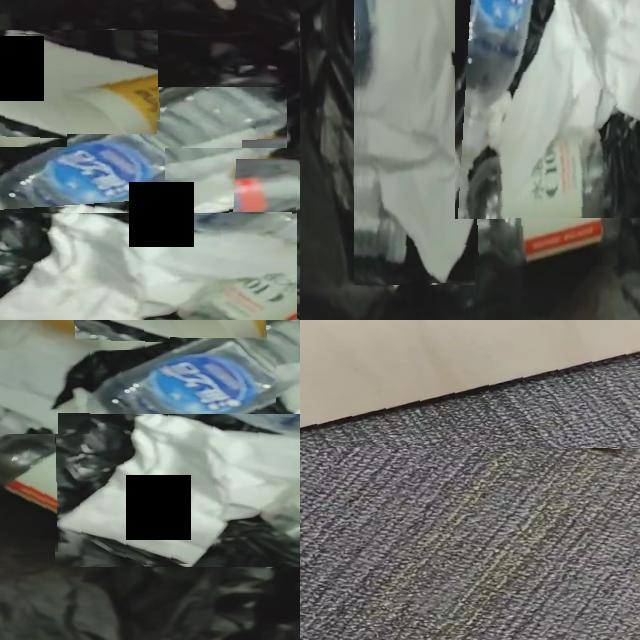bottle: (0, 87, 287, 240), (55, 320, 300, 451), (435, 132, 618, 266), (0, 432, 196, 550), (466, 0, 546, 158), (238, 160, 300, 222)
carton: (300, 320, 640, 431)
dixie_cup: (0, 74, 67, 147), (38, 320, 166, 350)
paper: (455, 0, 640, 214), (57, 414, 300, 565), (360, 0, 474, 284), (0, 213, 297, 320), (0, 32, 158, 134), (0, 320, 90, 427), (165, 148, 298, 215)
